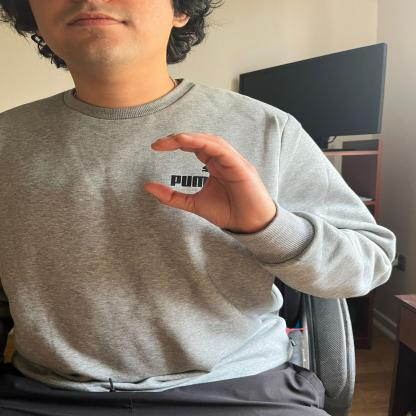C: (140, 127, 274, 230)
